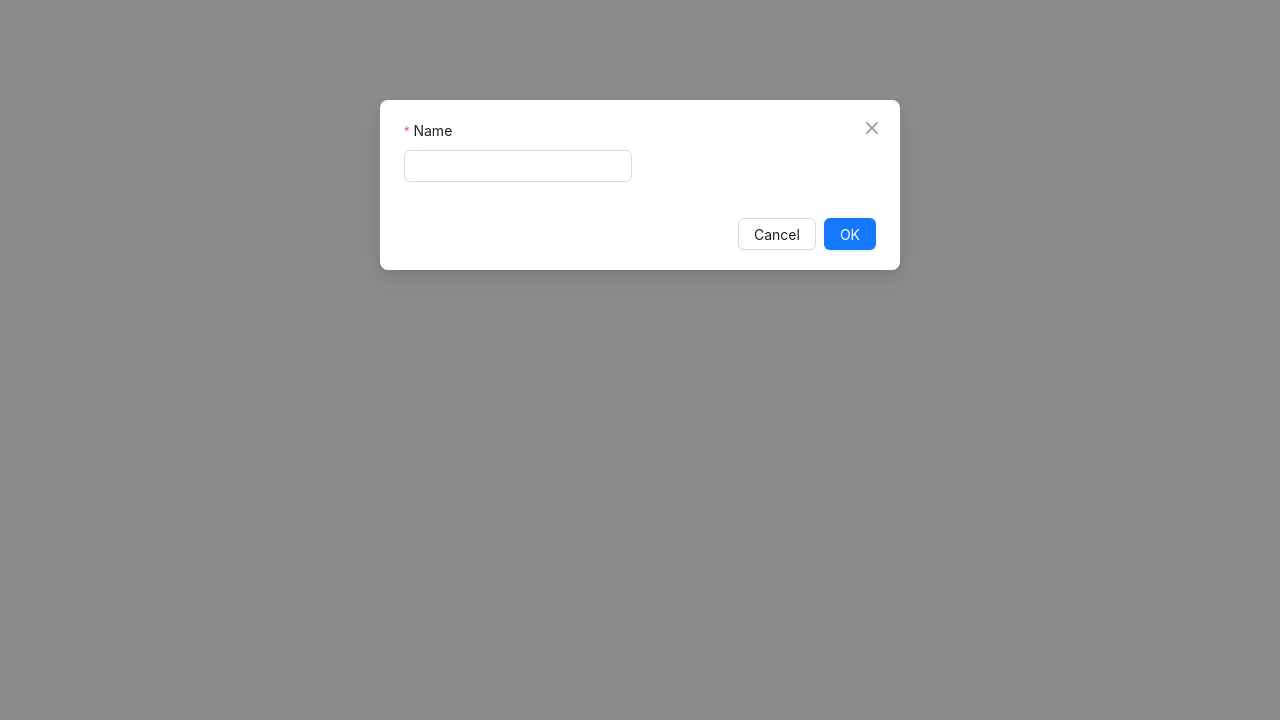
Test: openFormDialog › stays open and does not resolve when validation fails
Expected: the field labelled "Name" is shown, [404,150,632,182]
What coordinates should you click on to do the following:
click the button "OK"
I would click on:
 (850, 234)
Its box is [824,218,876,250].
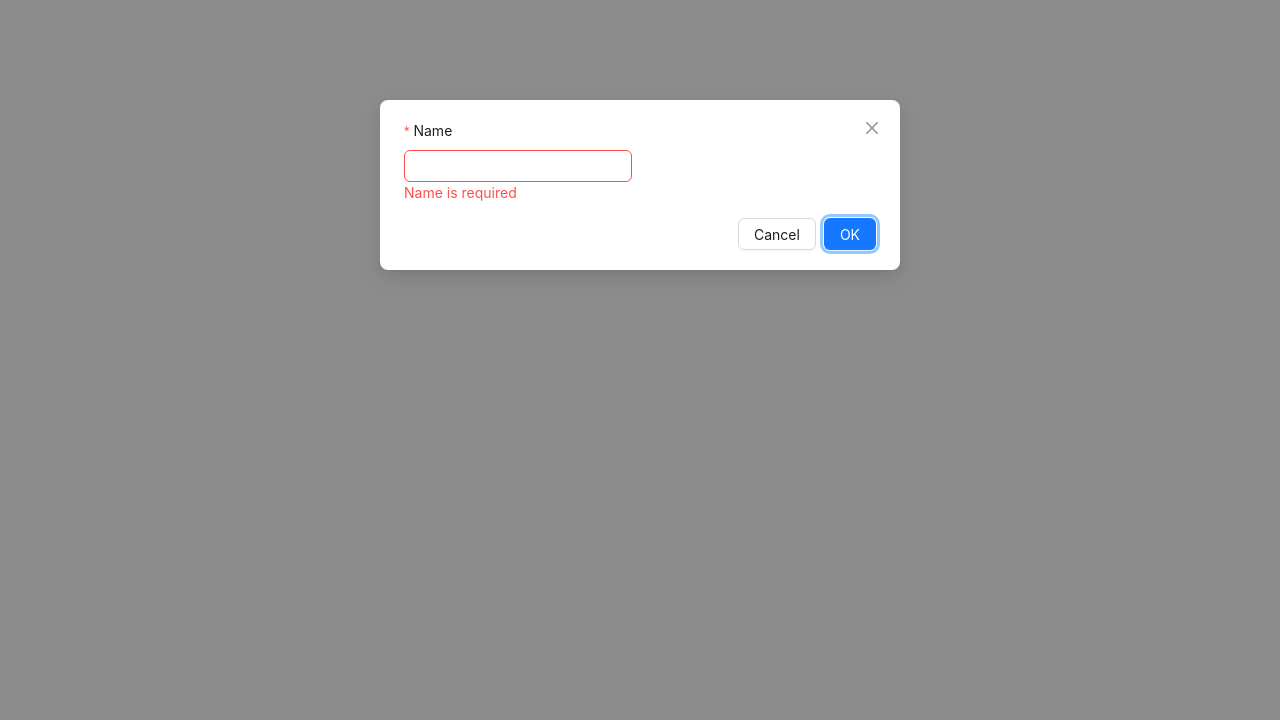
Expected: the field labelled "Name" is shown, [404,150,632,182]
Expected: the text "Name is required" is shown, [404,184,517,201]
